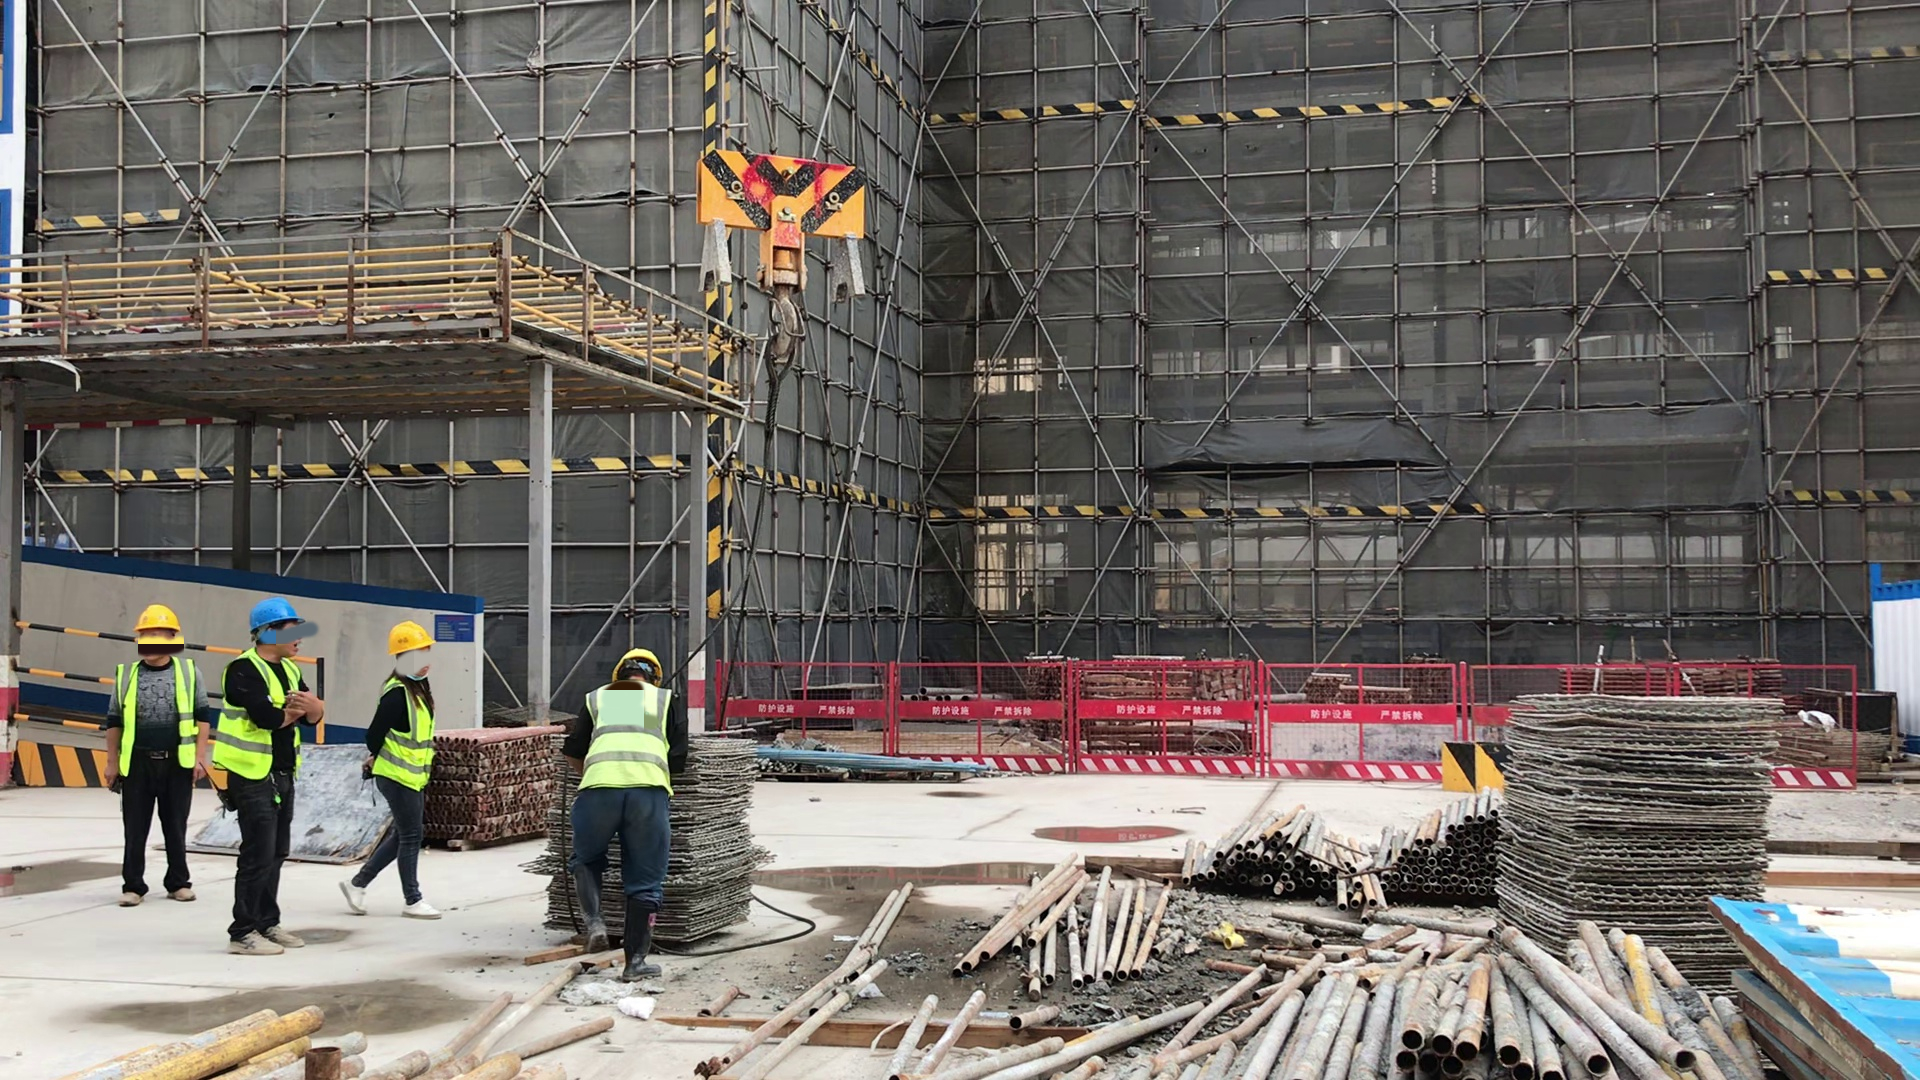fence: (716, 662, 1859, 784)
helmet: (613, 648, 662, 685), (249, 599, 306, 630), (389, 622, 435, 654), (132, 607, 180, 630)
hook: (692, 147, 865, 358)
person: (566, 649, 686, 979), (221, 597, 317, 954), (107, 607, 210, 904), (348, 622, 441, 917)
scaffold: (432, 727, 561, 849)
vest: (215, 654, 305, 773), (578, 688, 671, 791), (119, 657, 198, 768), (377, 683, 429, 785)
